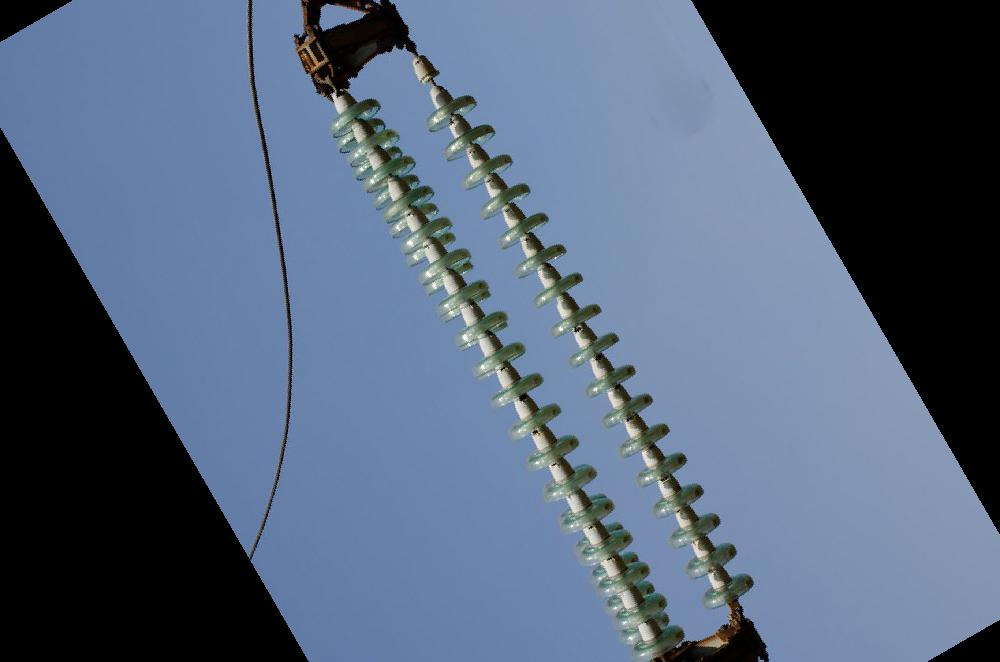insulator: (325, 93, 690, 662), (420, 89, 761, 615)
